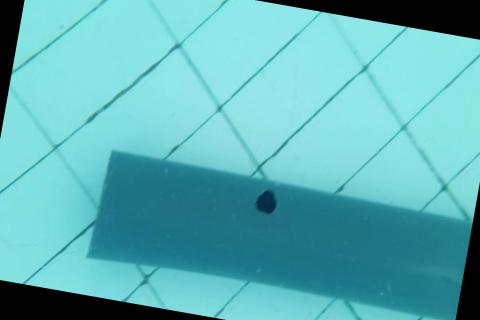kebocoran: (254, 185, 281, 216)
keretakan: (439, 271, 463, 300)
